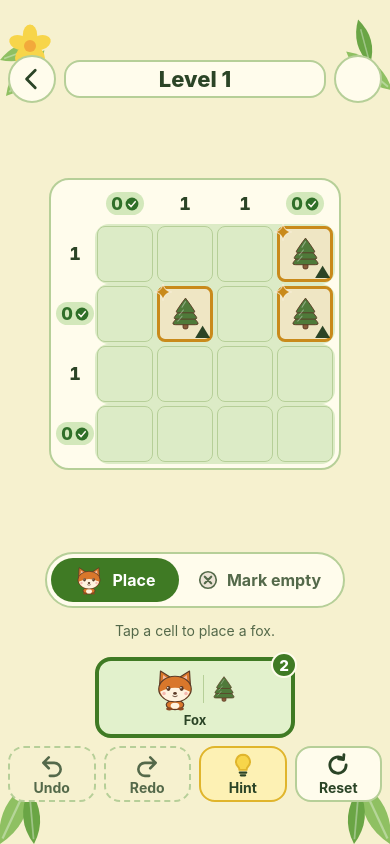
Test case: hints on the puzzle screen › the hint can be dismissed at any time (close or the hint button)
Step 1. Click the button with test id "action-hint" → (243, 774), box x1=199 y1=746 x2=286 y2=802
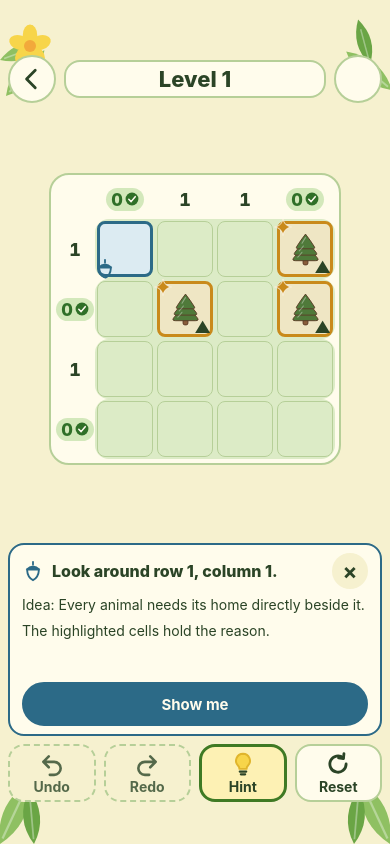
Step 2. Click the button with test id "hint-dismiss" → (350, 571), box x1=332 y1=553 x2=368 y2=589
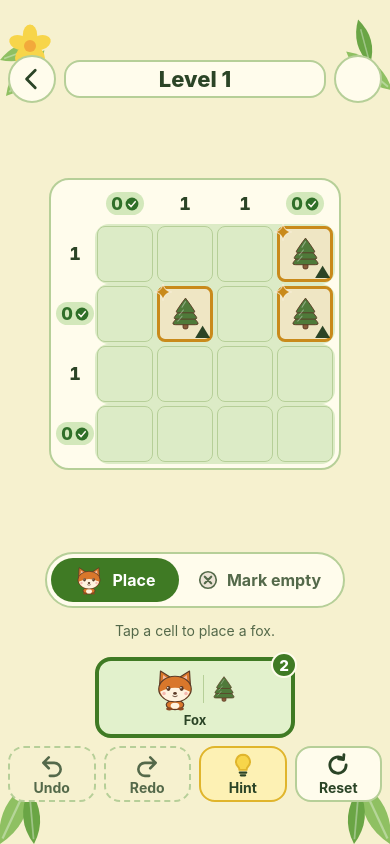
Check: the element with test id "hint-panel" is gone
Step 3. Click the button with test id "action-hint" → (243, 774), box x1=199 y1=746 x2=286 y2=802
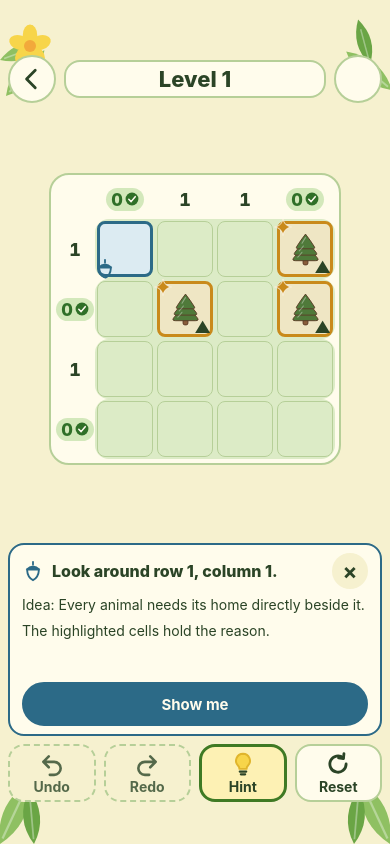
Step 4. Click the button with test id "hint-action-reveal" → (195, 704), box x1=22 y1=682 x2=368 y2=726
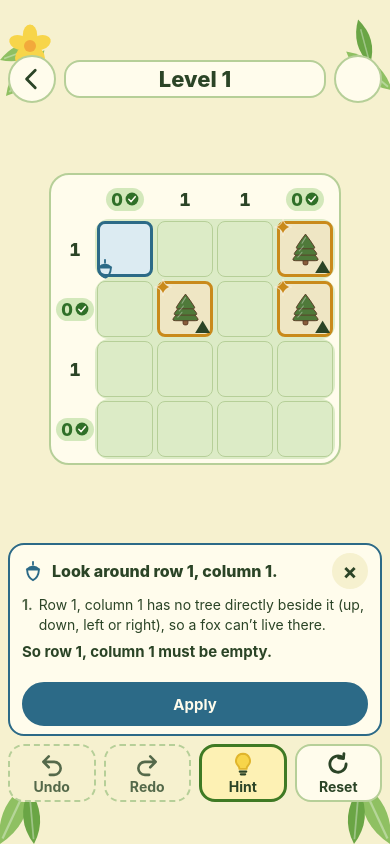
Step 5. Click the button with test id "action-hint" → (243, 773), box x1=199 y1=744 x2=286 y2=802
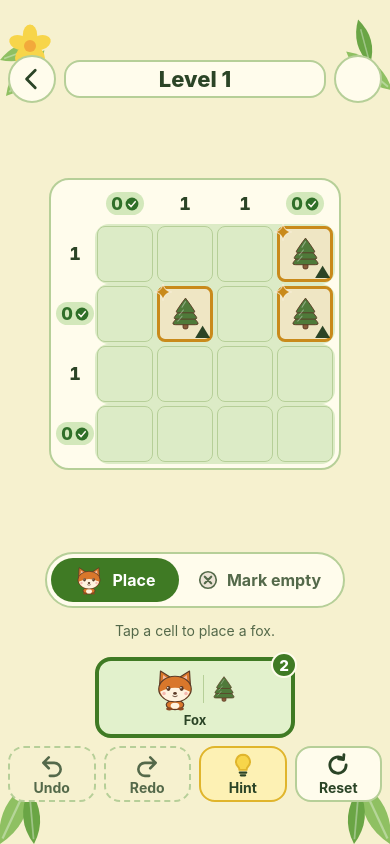
Check: the element with test id "hint-panel" is gone
